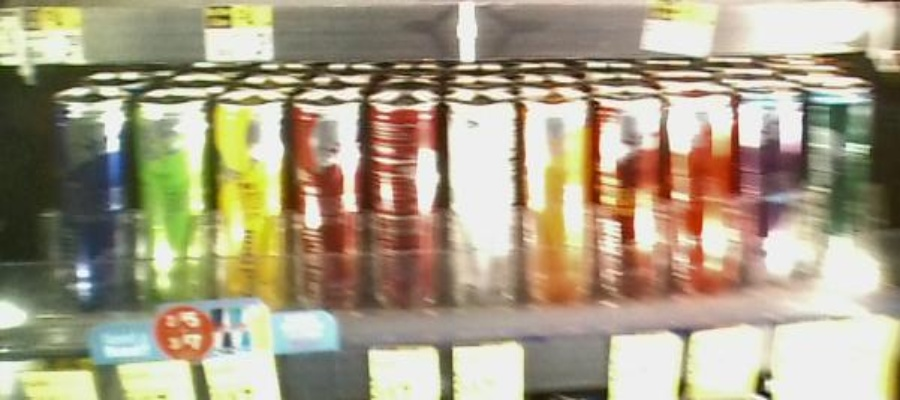bottle: (49, 84, 133, 319), (291, 79, 362, 331), (138, 91, 213, 326), (362, 92, 440, 316), (216, 96, 288, 321), (446, 91, 517, 313), (524, 94, 595, 316), (671, 82, 740, 304), (598, 86, 665, 309), (809, 79, 873, 297), (743, 89, 806, 304)
